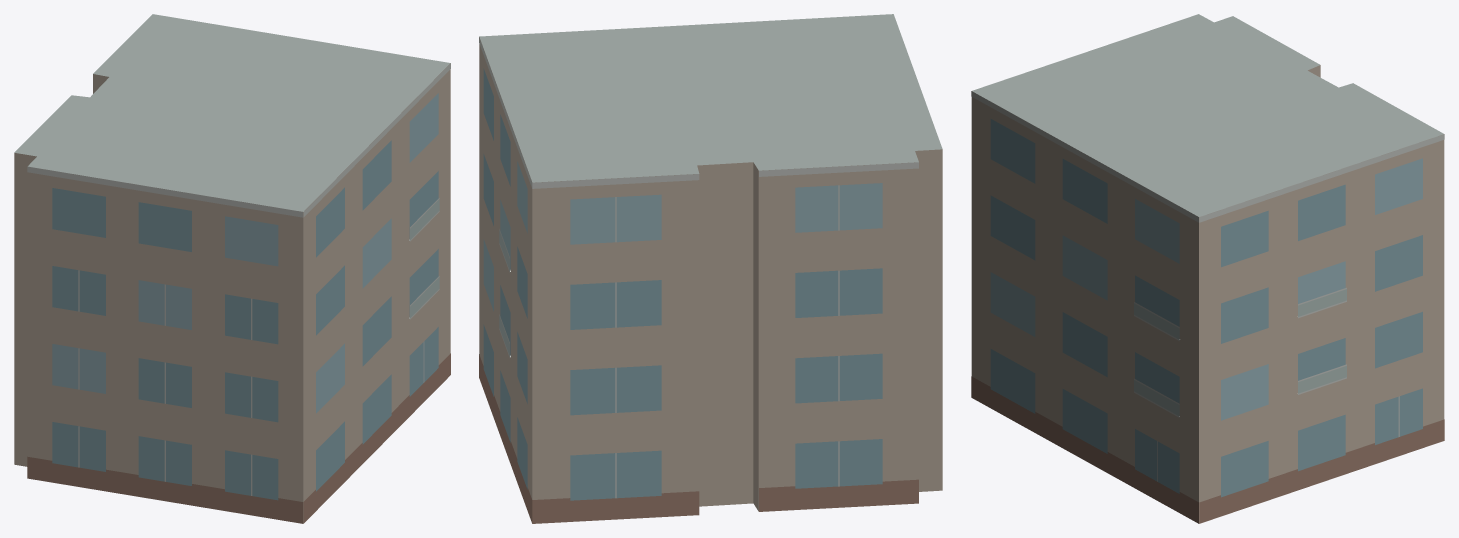
File: survey-upis-32690979.glb
The picture shows the model from 3 angles, left to right: view 1: azimuth 30°, elevation 25°; view 2: azimuth 150°, elevation 25°; view 3: azimuth 270°, elevation 25°; orthographic projection. The views are drawn at different scales.
Visible parts, largest first — view 1: survey-upis-32690979.tmp; view 2: survey-upis-32690979.tmp; view 3: survey-upis-32690979.tmp.
Boxes of the visible parts, x1,y1,x2,y2 form: survey-upis-32690979.tmp: [14, 14, 450, 523]; survey-upis-32690979.tmp: [479, 14, 942, 523]; survey-upis-32690979.tmp: [971, 14, 1444, 523].
Bounding box in the file's own units: 18.73 × 13.18 × 18.42.
